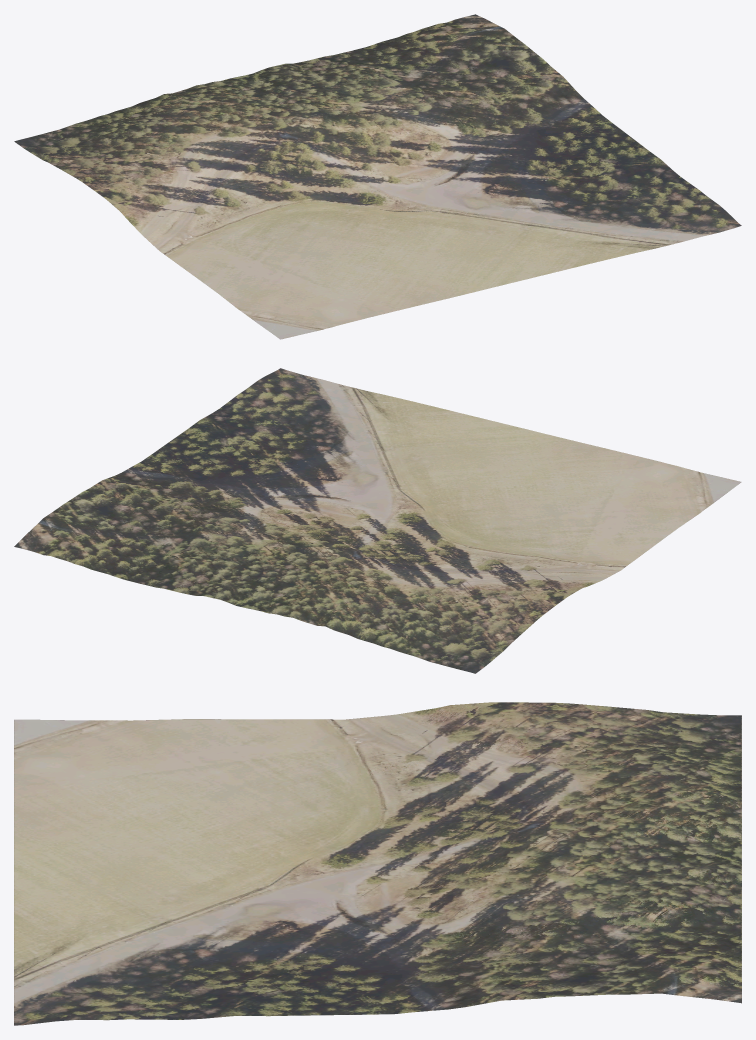
Rendered from CM_Terrain_24489639_6822456.fbx.
3 views of the same model, one above another, from view 1: azimuth 30°, elevation 25°; view 2: azimuth 150°, elevation 25°; view 3: azimuth 270°, elevation 25° (orthographic). The views are drawn at different scales.
Visible parts, largest first — view 1: CM_Terrain_24489639_6822456_LOD0; view 2: CM_Terrain_24489639_6822456_LOD0; view 3: CM_Terrain_24489639_6822456_LOD0.
Boxes of the visible parts, x1,y1,x2,y2 form: CM_Terrain_24489639_6822456_LOD0: (14, 14, 741, 339); CM_Terrain_24489639_6822456_LOD0: (14, 368, 741, 673); CM_Terrain_24489639_6822456_LOD0: (14, 702, 741, 1025).
Size of what is drawn, in the model's own units: 205 by 10.92 by 205.
